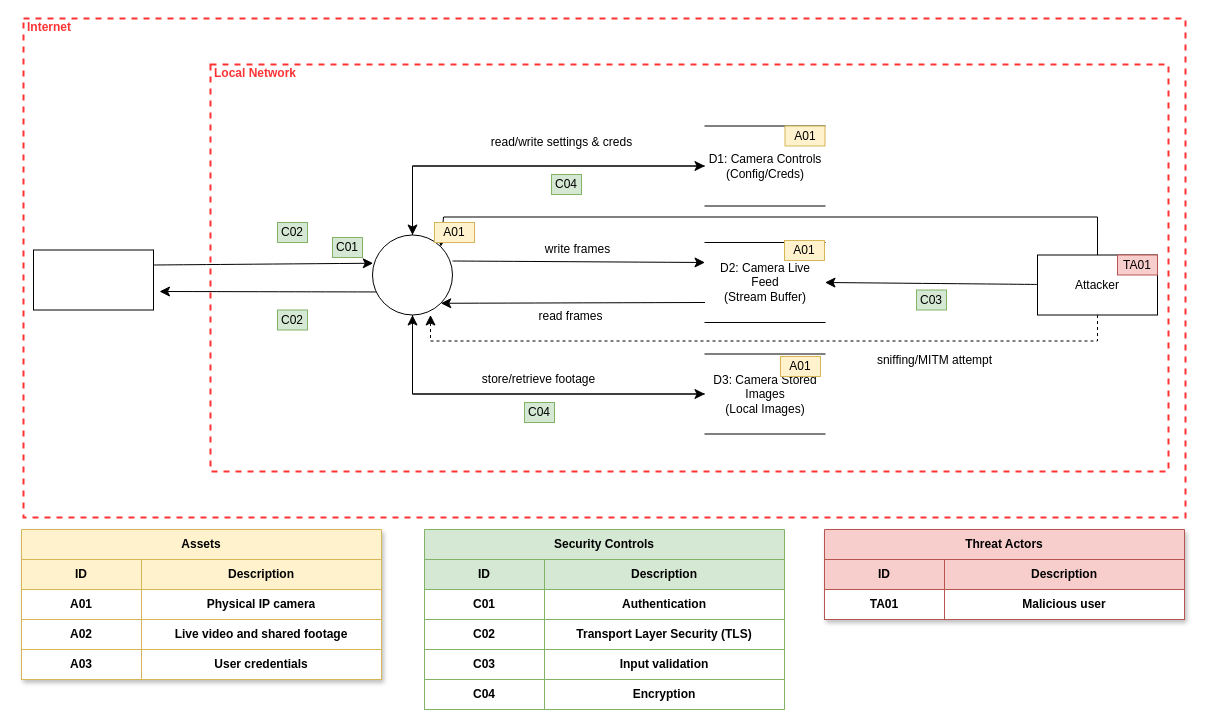
This 1208x727 diagram has some shape labels left out. The shapes that lost their labels are listed below. From the top down, each one's centre as x and y in pixels, then its label:
the point at 93,279: User
the point at 412,274: IP Camera
